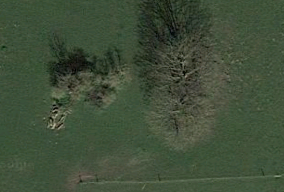tree: (129, 26, 236, 153)
